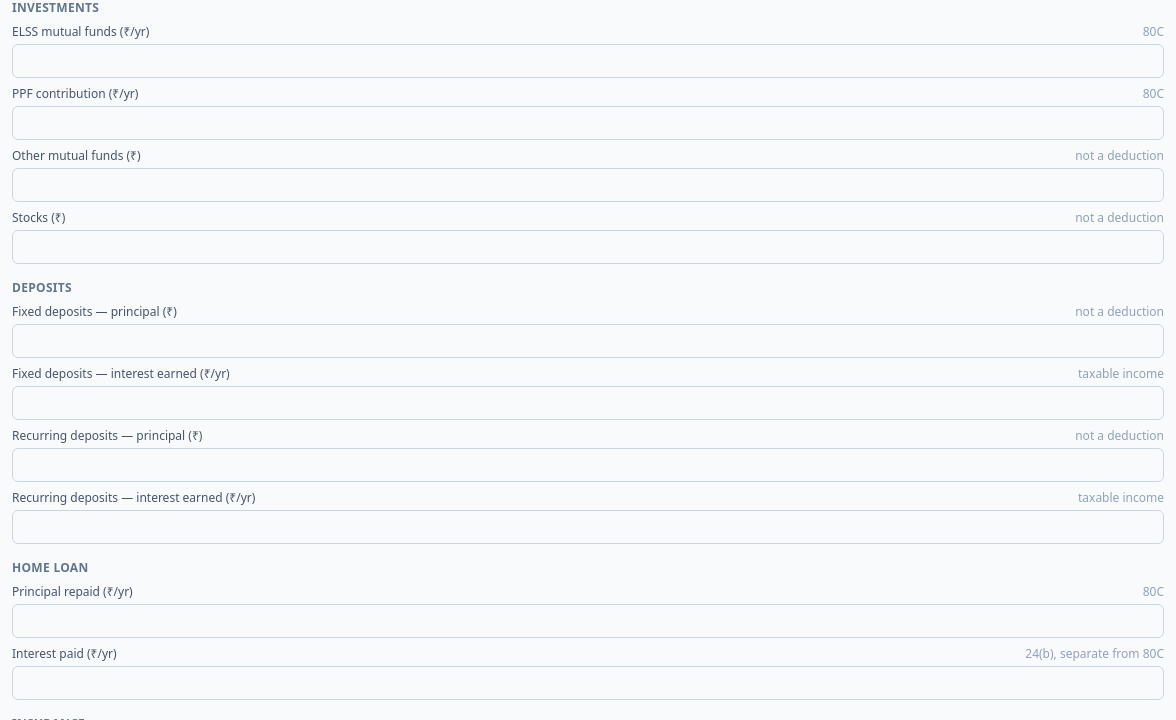
Scenario: FinancialProfileForm › save › regression: does NOT update the store when the save fails -- the store previously updated optimistically before the save, leaving stale unsaved data behind on f
Type "50000" into the number field labelled "ELSS mutual funds (₹/yr) 80C" at (588, 61), box x1=12 y1=44 x2=1164 y2=78
(page scrolled)
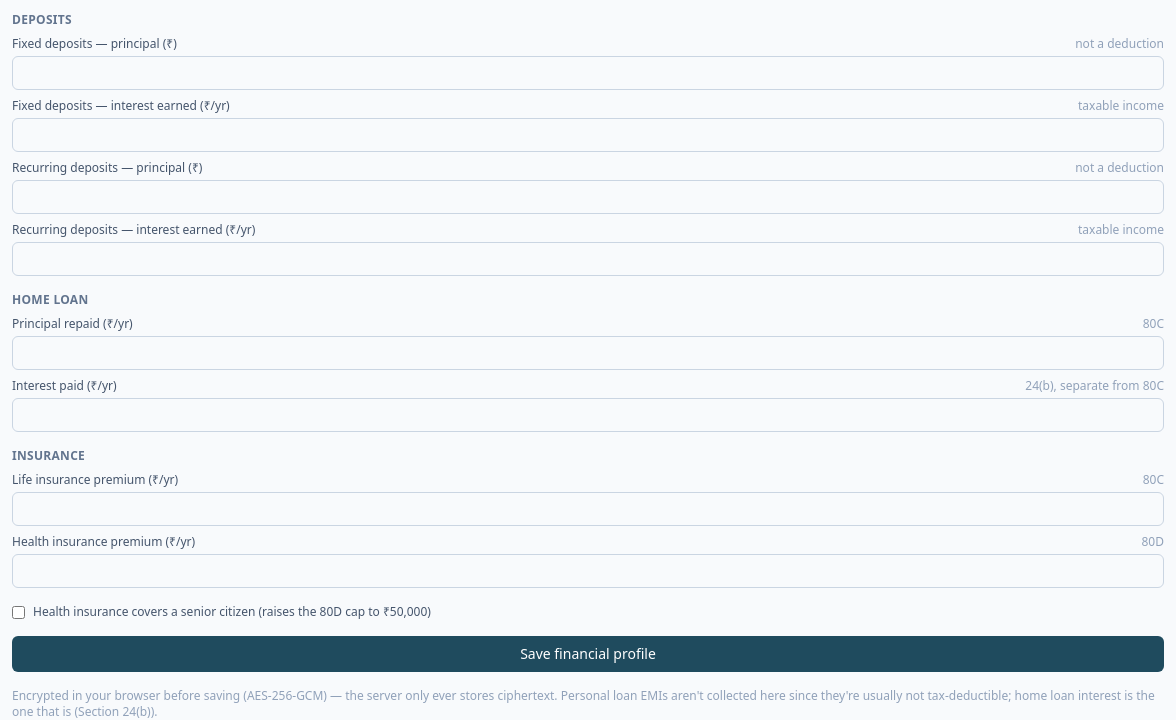
Click the button "Save financial profile" at (588, 654), box x1=12 y1=636 x2=1164 y2=672
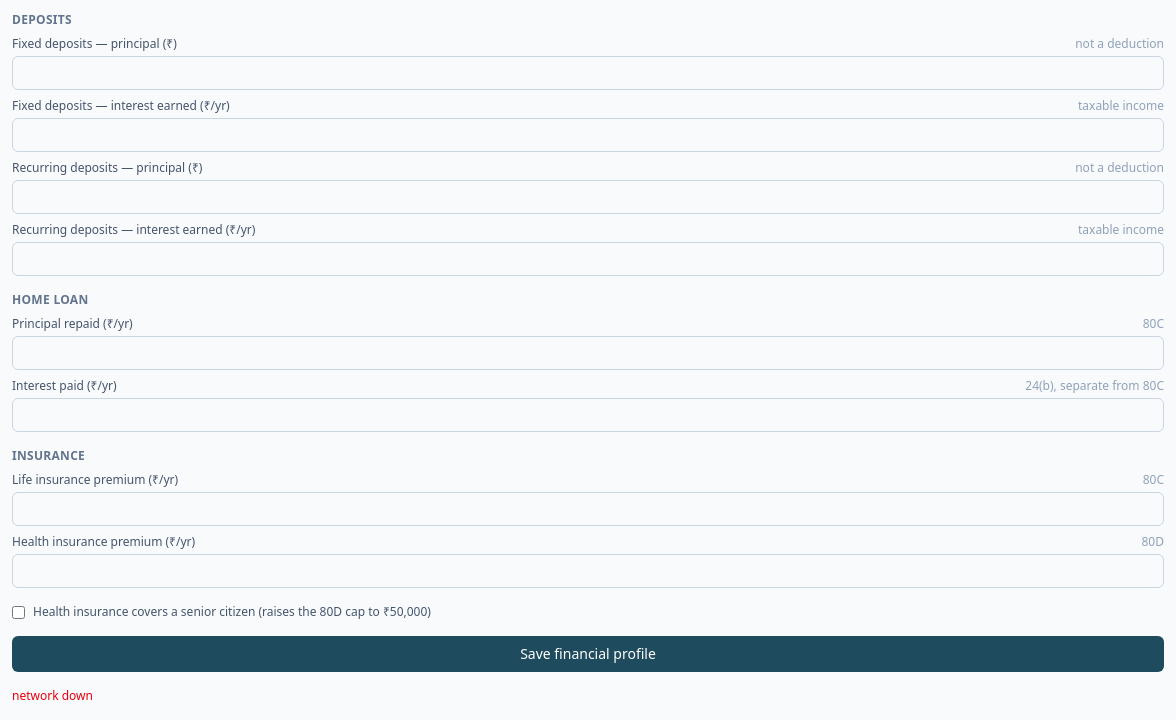
Now the text "network down" is shown, box x1=12 y1=687 x2=93 y2=704
